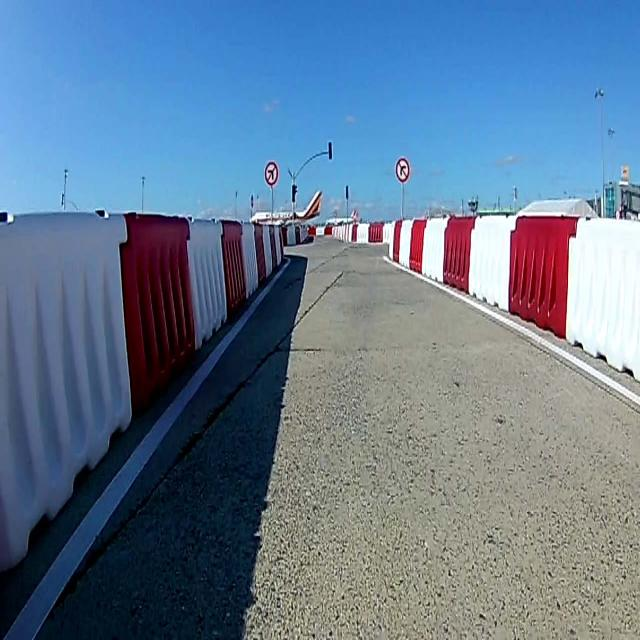sagadonulmez: (395, 157, 410, 183)
soladonulmez: (264, 162, 278, 186)
